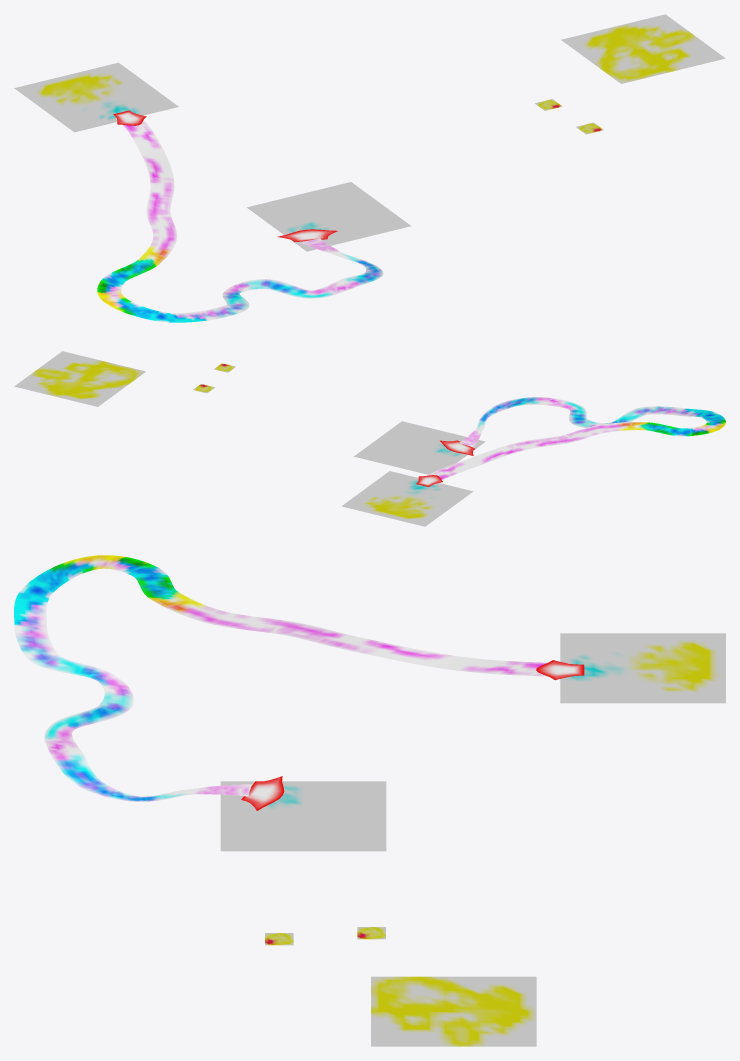
Rendered from Water.fbx.
3 views of the same model, one above another, from view 1: azimuth 30°, elevation 25°; view 2: azimuth 150°, elevation 25°; view 3: azimuth 270°, elevation 25° (orthographic). The views are drawn at different scales.
Visible parts, largest first — view 1: SM_RiverMerged01, SM_Plane3, SM_Plane2, SM_Plane01_18; view 2: SM_RiverMerged01, SM_Plane3, SM_Plane2, SM_Plane01_18, SM_WaterBlendShape01_8; view 3: SM_RiverMerged01, SM_Plane3, SM_Plane2, SM_Plane01_18, SM_WaterBlendShape01_8.
Part boxes in pixels (x1,y1,x2,y2): SM_RiverMerged01: (97,118,383,322); SM_Plane3: (561,14,725,83); SM_Plane2: (14,62,178,132); SM_Plane01_18: (247,182,411,251); SM_RiverMerged01: (426,397,725,484); SM_Plane3: (14,351,145,406); SM_Plane2: (341,471,473,526); SM_Plane01_18: (354,421,485,474); SM_WaterBlendShape01_8: (440,440,474,455); SM_RiverMerged01: (14,555,570,801); SM_Plane3: (371,976,536,1046); SM_Plane2: (560,633,725,703); SM_Plane01_18: (220,781,386,851); SM_WaterBlendShape01_8: (241,776,284,810).
Bounding box in the file's own units: 26514 × 16520 × 1940.
